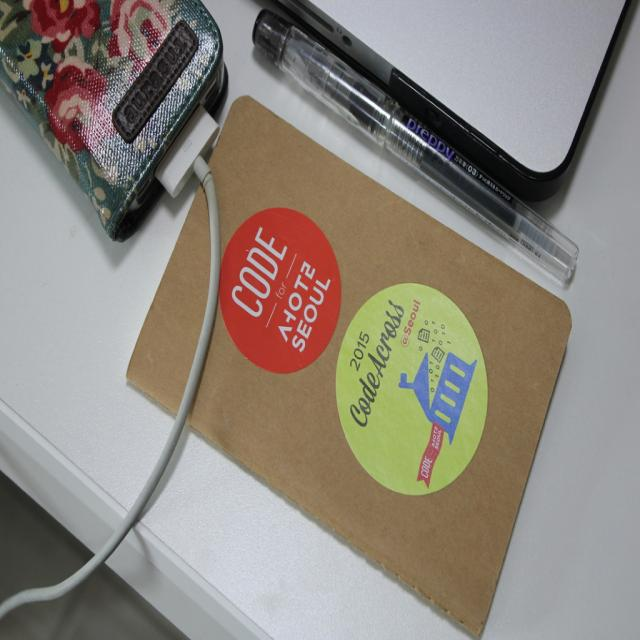pen: (248, 7, 580, 285)
